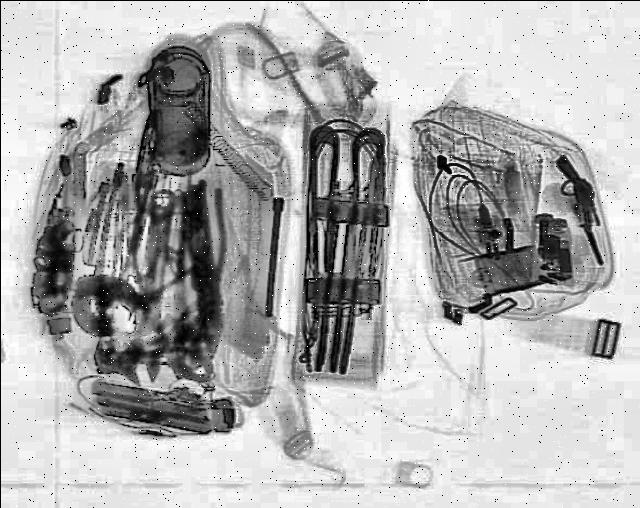Wrench: (118, 185, 184, 385)
